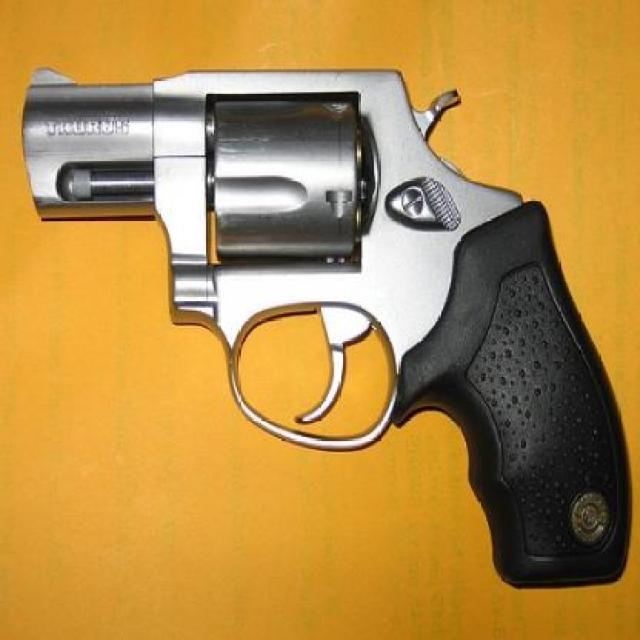gun: (3, 32, 640, 626)
